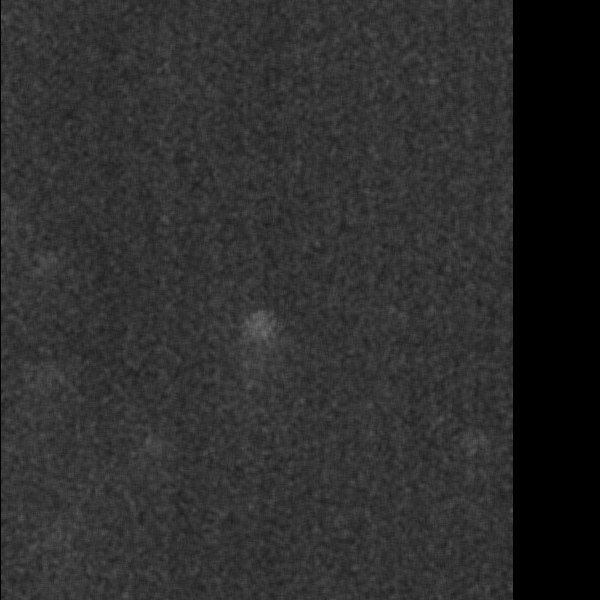spark: (241, 302, 282, 354), (140, 427, 160, 473)
